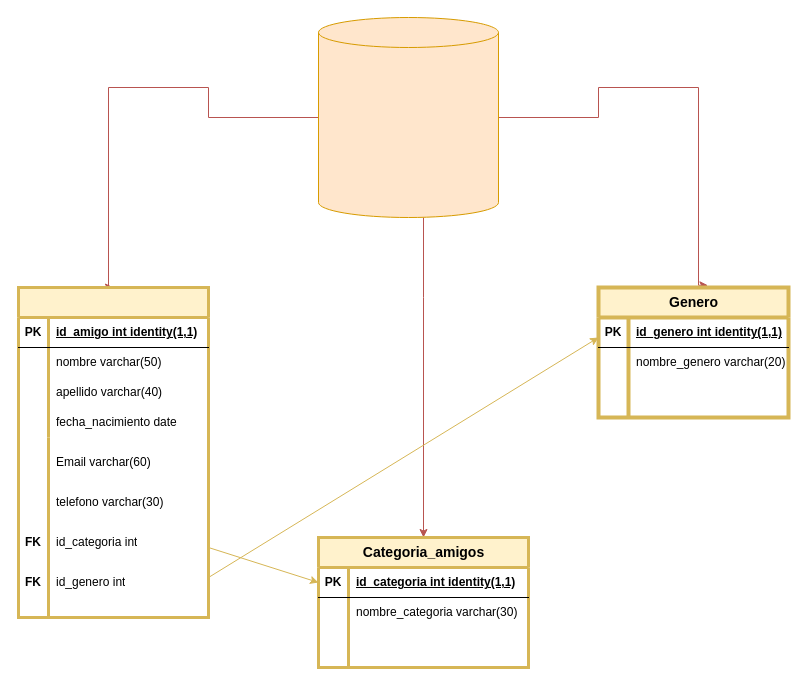
Some shapes in this 808 by 686 pixel diagram are drawn without their labels. The shapes that lost their labels are listed below. From the top down, each one's box as (x1, y1, x2, y2) in pixels, then its label:
(318, 16, 498, 218): Base De Datos Agenda
(16, 286, 210, 618): Amigos
